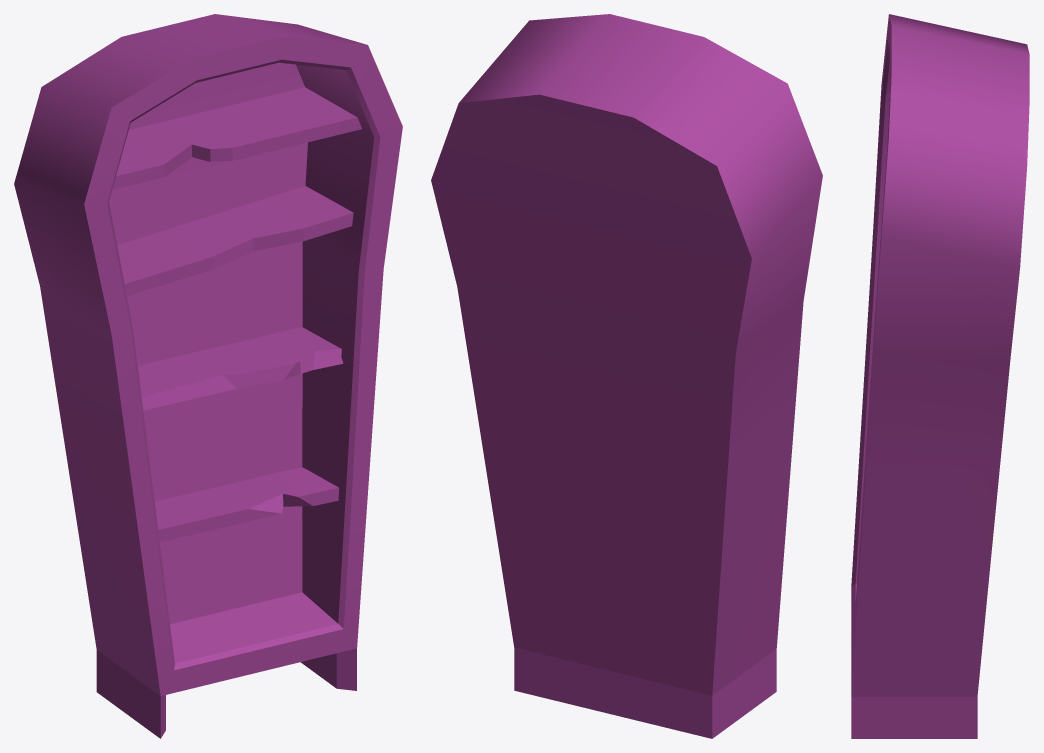
Rendered from BookShelf_Type_04.fbx.
The picture shows the model from 3 angles, left to right: view 1: azimuth 30°, elevation 25°; view 2: azimuth 150°, elevation 25°; view 3: azimuth 270°, elevation 25°; orthographic projection. The views are drawn at different scales.
Visible parts, largest first — view 1: BookShelf_Type_04_MAIN, Wood_Hor_A_01, Wood_Hor_B_01, Wood_Hor_C_01, Wood_Hor_D_01; view 2: BookShelf_Type_04_MAIN; view 3: BookShelf_Type_04_MAIN.
Boxes of the visible parts, x1,y1,x2,y2 form: BookShelf_Type_04_MAIN: [14, 14, 402, 738]; Wood_Hor_A_01: [112, 87, 361, 189]; Wood_Hor_B_01: [117, 186, 353, 296]; Wood_Hor_C_01: [137, 327, 343, 410]; Wood_Hor_D_01: [154, 467, 339, 542]; BookShelf_Type_04_MAIN: [431, 14, 822, 738]; BookShelf_Type_04_MAIN: [851, 14, 1029, 738].
Bounding box in the file's own units: 213 × 417 × 105.
